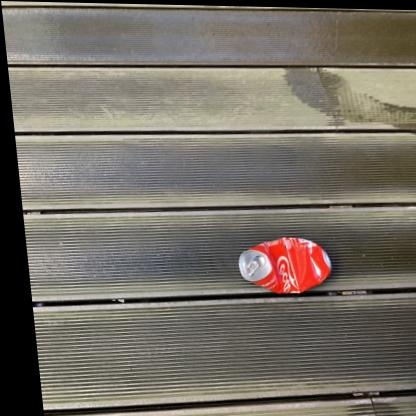trash: (239, 237, 330, 293)
